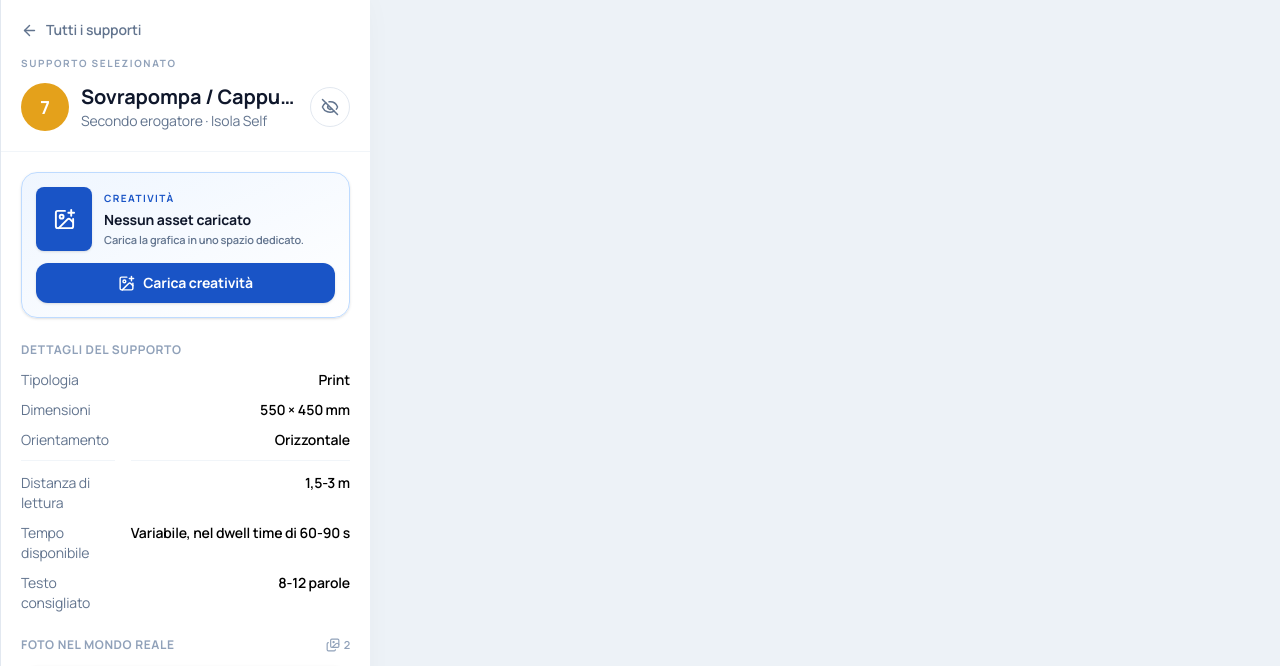
Test: MediaPointPanel › consente il caricamento di una creatività PDF
Click the button "Carica creatività" at (186, 283), box [36,263,335,303]
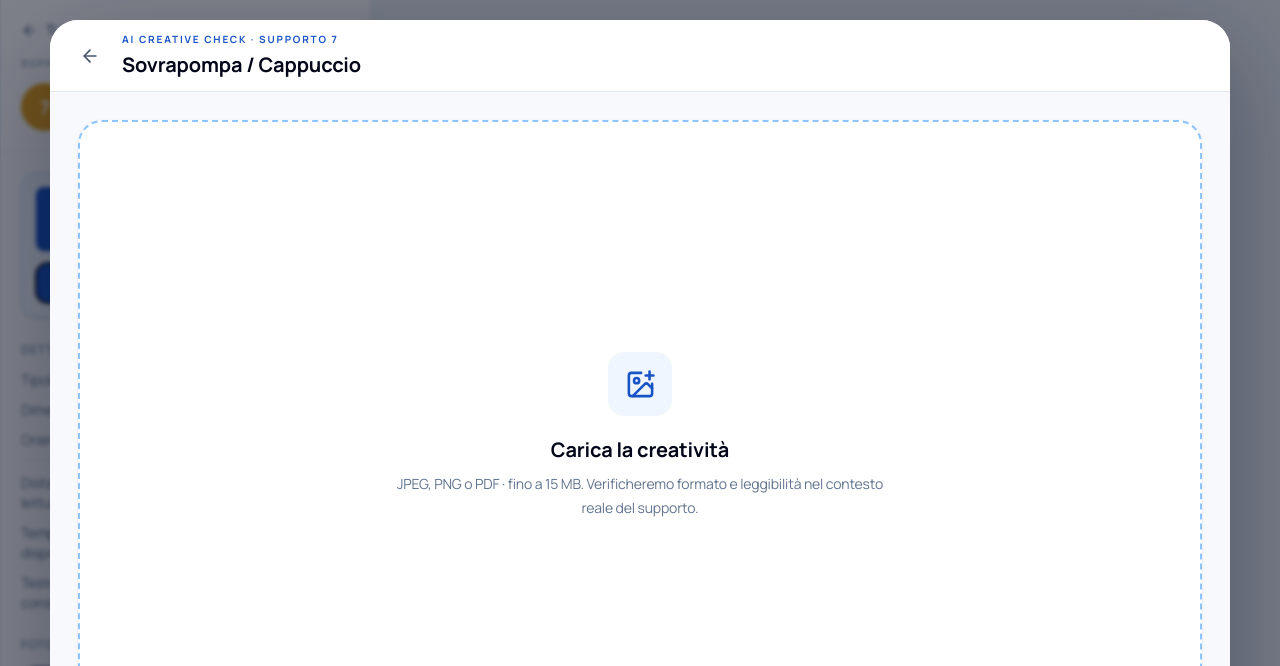
Result: the text "Carica la creatività" is shown at [551,436,729,464]
